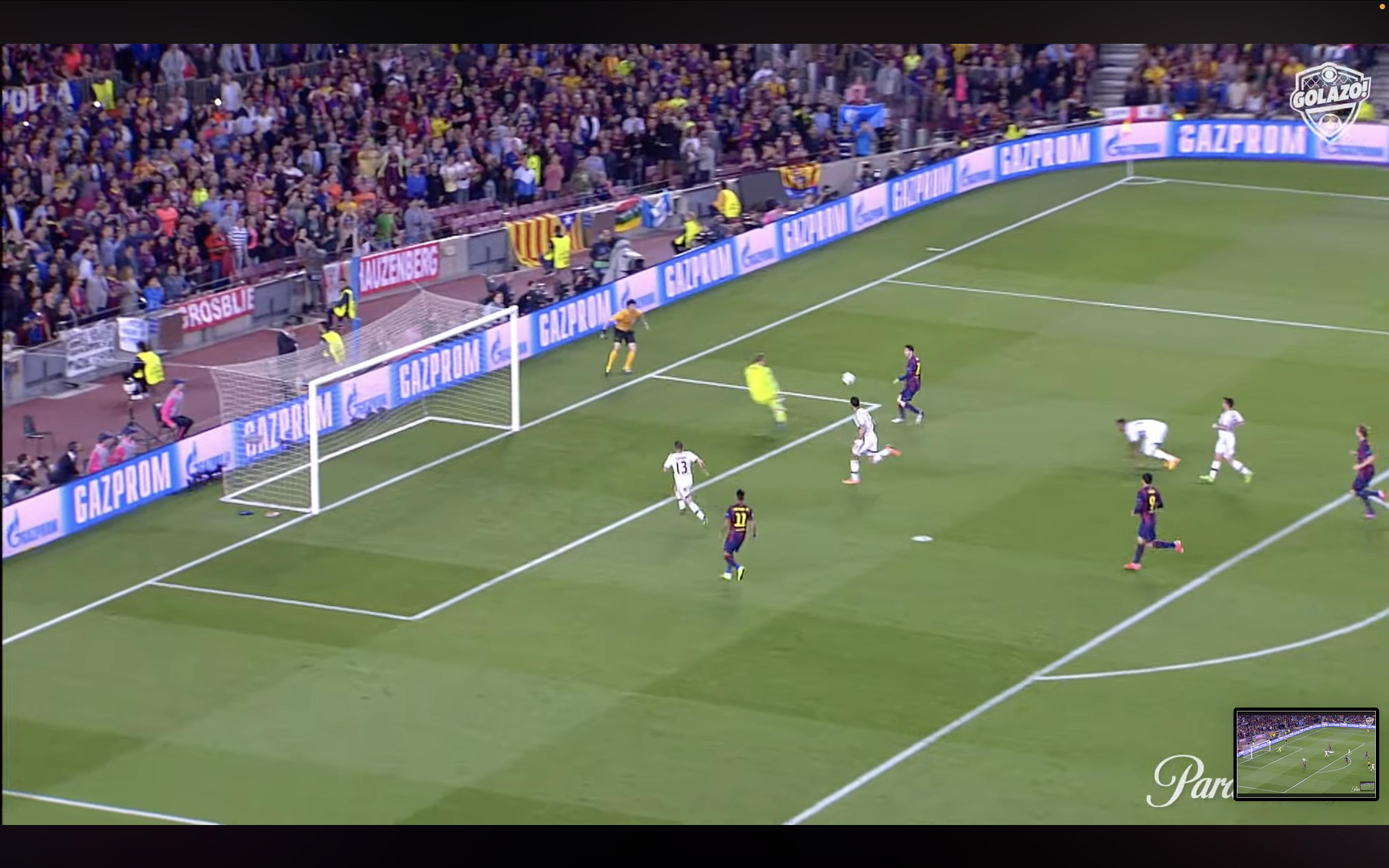ball: (842, 372, 856, 385)
goalkeeper: (744, 353, 787, 428)
player: (1124, 472, 1184, 570), (843, 397, 900, 484), (1199, 397, 1254, 483), (663, 441, 708, 524), (1351, 425, 1389, 519), (1116, 419, 1180, 470), (721, 489, 756, 581), (892, 345, 924, 424)
referee: (605, 299, 649, 376)
